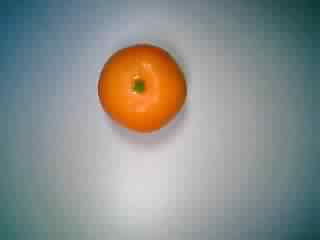orange: (94, 37, 190, 133)
